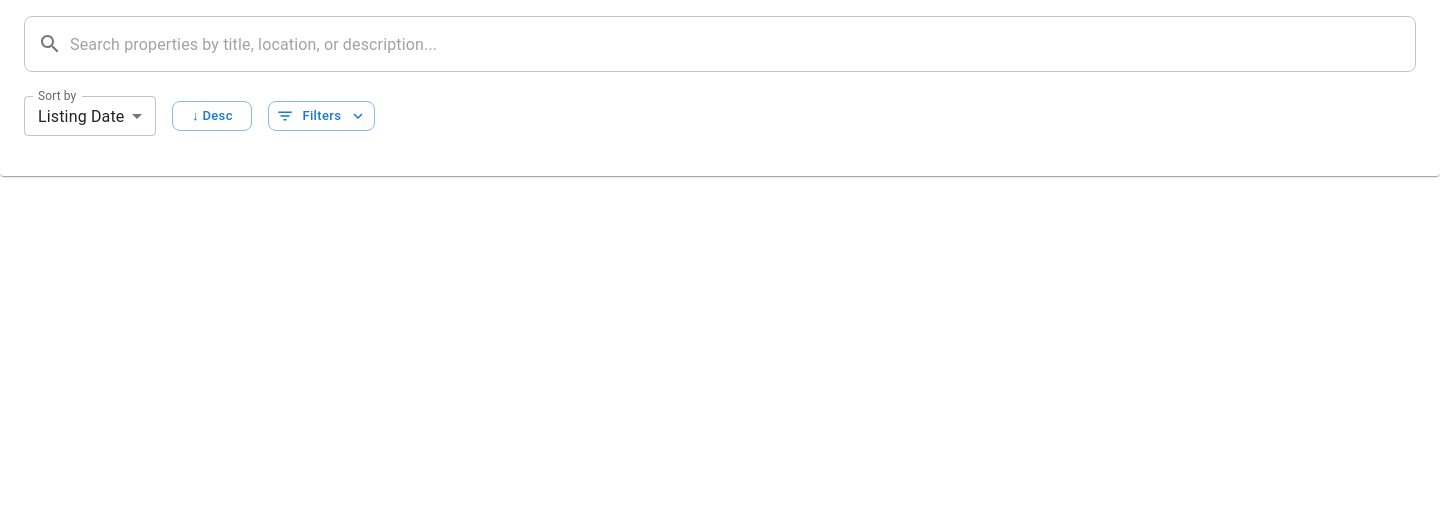
Test: SearchFilters › Advanced Filters › toggles advanced filters visibility
Step 1. Click the button "Filters" → point(322, 116), box [268,101,375,131]
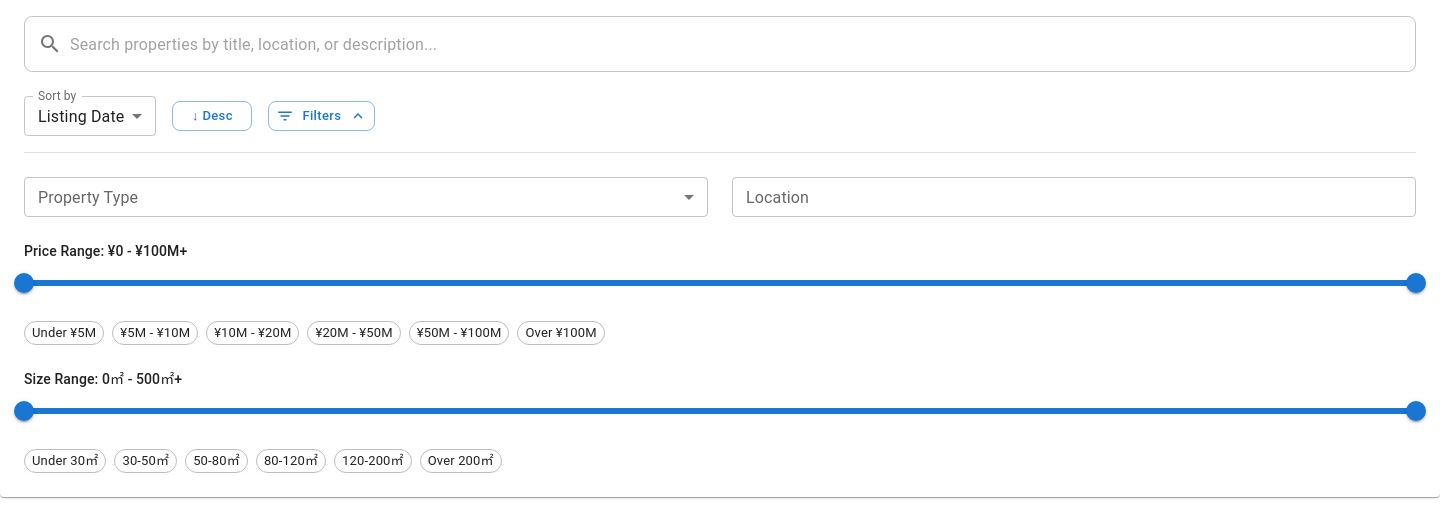
Check: the field with placeholder "Enter city, prefecture, or area" is shown, box [732,177,1416,217]
